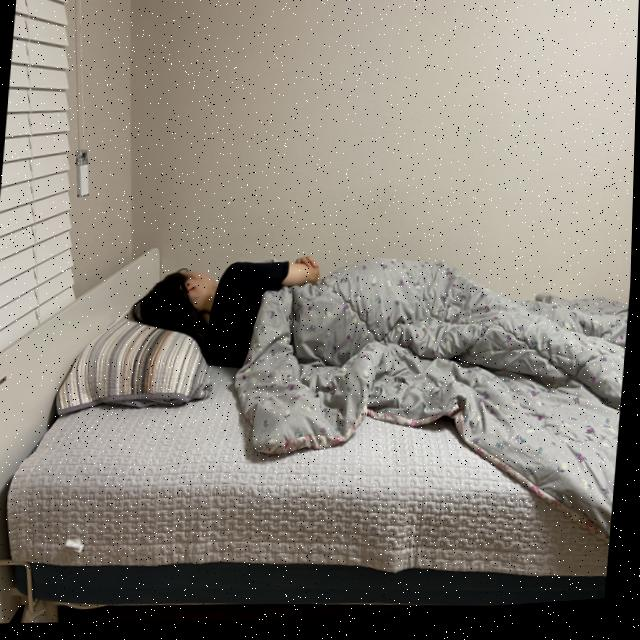sleeping-person: (110, 223, 634, 489)
